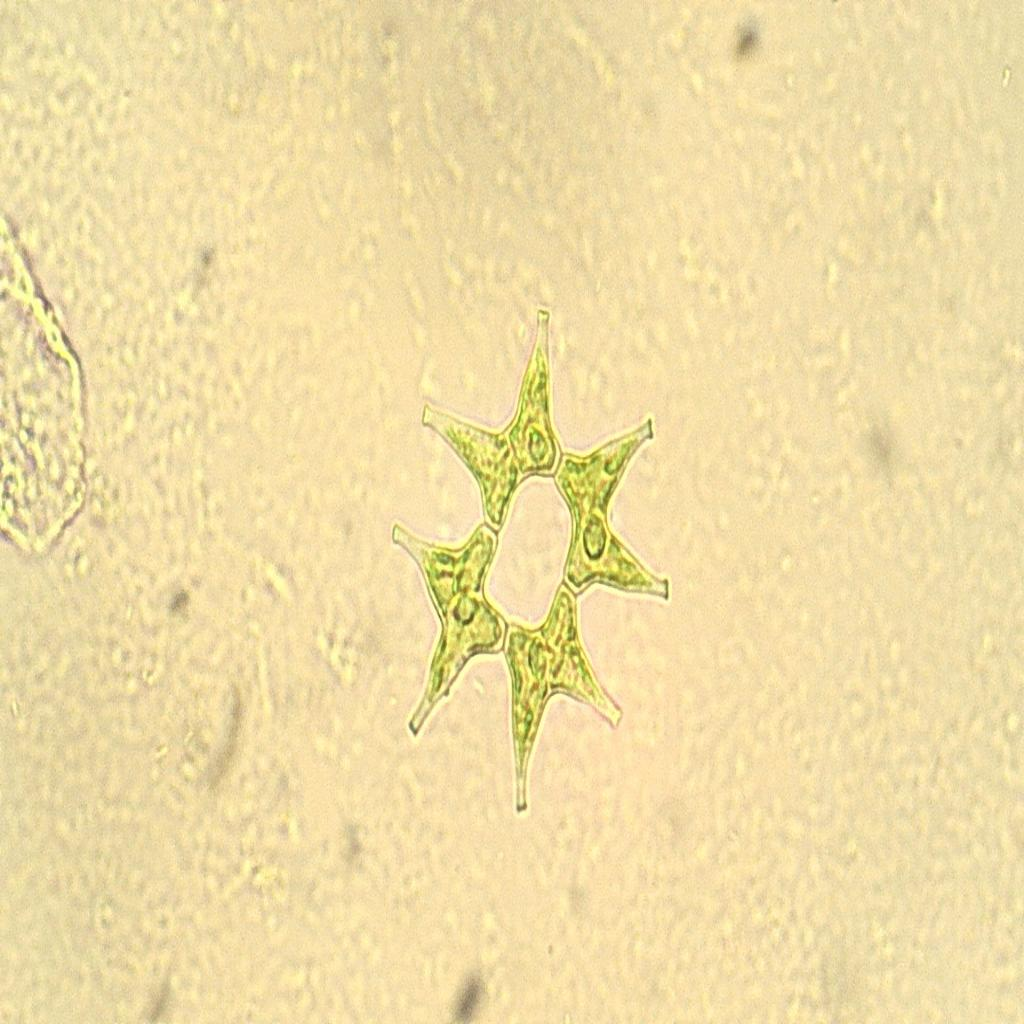Pediastrum_CO: (363, 284, 696, 842)
